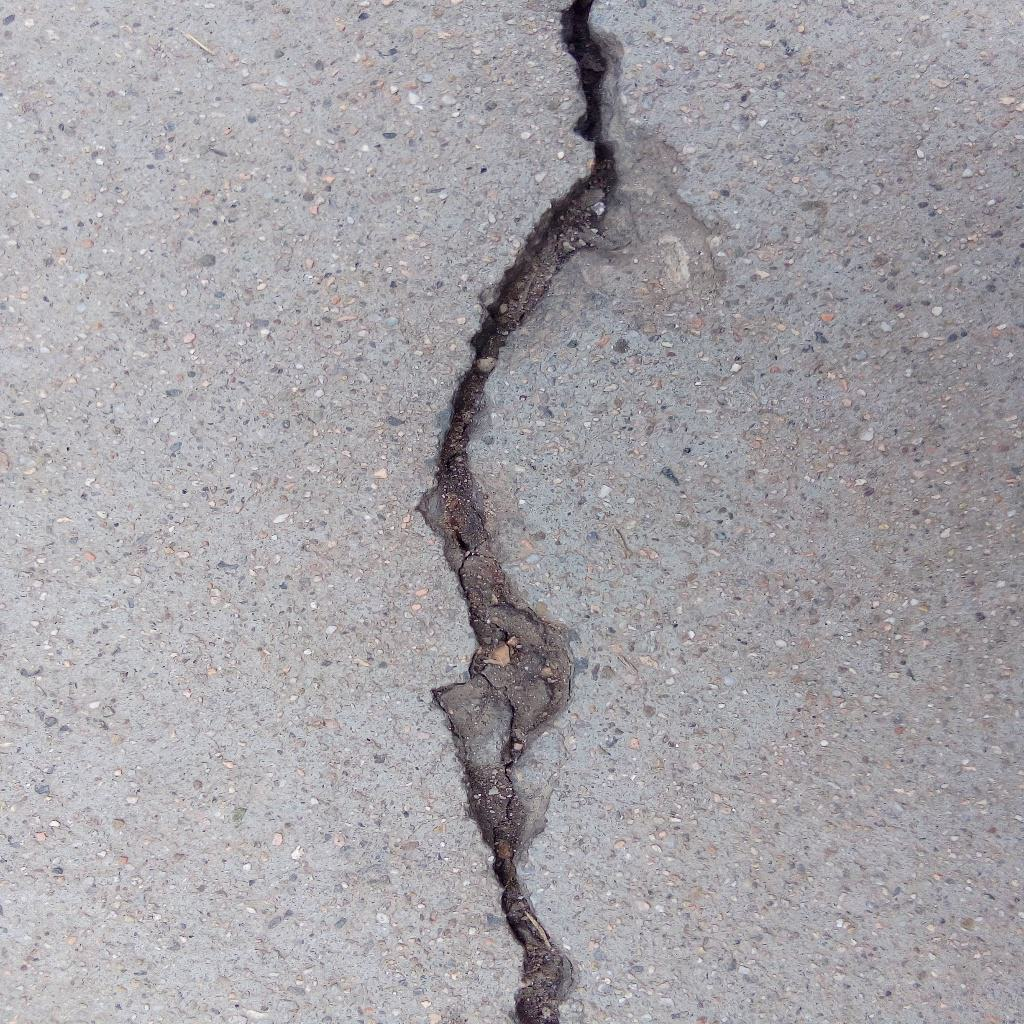Crack: (410, 1, 618, 1024)
Spalling: (576, 123, 721, 311)
